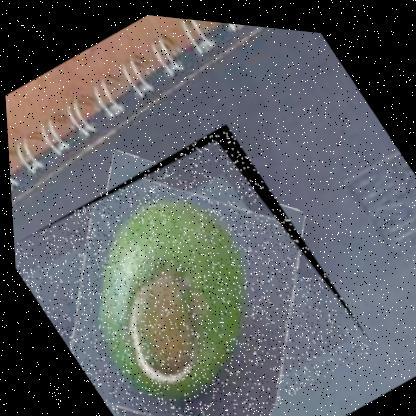orange_rotten: (4, 99, 379, 415)
